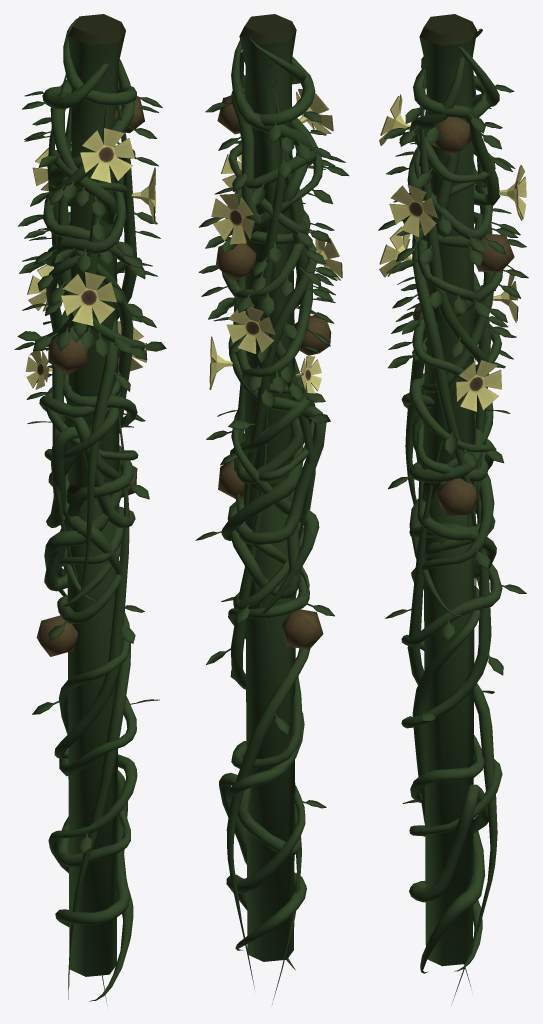
The model's file is Vine Plant phase 3.fbx.
3 views of the same model, side by side, from view 1: azimuth 30°, elevation 25°; view 2: azimuth 150°, elevation 25°; view 3: azimuth 270°, elevation 25° (orthographic).
Visible parts, largest first — view 1: BezierCurve.003, Phase 4 Bamboo 4; view 2: BezierCurve.003, Phase 4 Bamboo 4; view 3: BezierCurve.003, Phase 4 Bamboo 4.
Part boxes in pixels (x1,y1,x2,y2): BezierCurve.003: (14, 18, 166, 1004); Phase 4 Bamboo 4: (67, 14, 125, 976); BezierCurve.003: (195, 37, 349, 1004); Phase 4 Bamboo 4: (239, 14, 296, 961); BezierCurve.003: (378, 28, 528, 1004); Phase 4 Bamboo 4: (419, 14, 477, 966).
Size of the model in its own units: 79.33 by 570 by 79.44.
